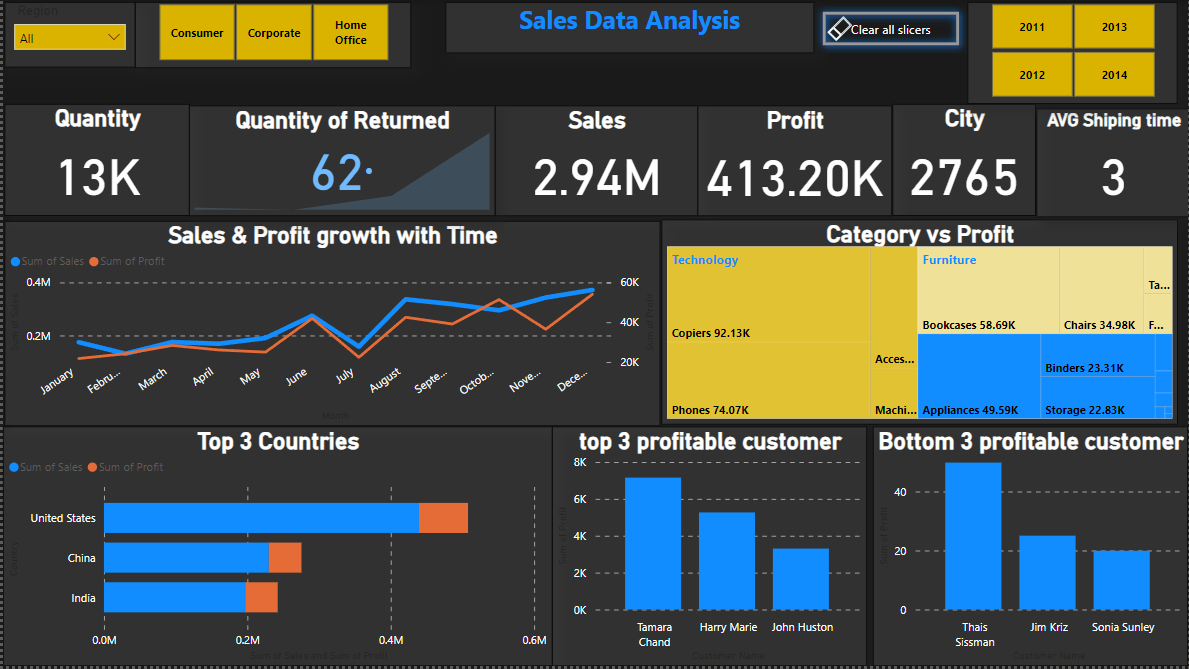

This screenshot's page, from the dashboard's own definition file:
{"tool":"powerbi","page":{"name":"Page 1","canvas":[1280,720],"ordinal":0},"visuals":[{"type":"card","title":"Quantity","fields":{"Values":["Orders.Quantity"]},"box":[1.1,113.4,200.3,120.9],"z":0},{"type":"card","title":"Sales","fields":{"Values":["Orders.Sales"]},"box":[531,115.3,219.2,119.1],"z":1000},{"type":"card","title":"Profit","fields":{"Values":["Orders.Profit"]},"box":[750.2,115.6,209.8,119.6],"z":2000},{"type":"card","title":"City","fields":{"Values":["Orders.City"]},"box":[960,113.4,155,120.9],"z":3000},{"type":"lineChart","title":"Sales & Profit growth with Time","fields":{"Y":["Orders.Sales"],"Category":["Orders.Order Date.Variation.Date Hierarchy.Month"],"Y2":["Orders.Profit"]},"box":[2,239.2,707.8,221.6],"z":4000},{"type":"treemap","title":"Category vs Profit","fields":{"Group":["Orders.Category"],"Values":["Orders.Profit"],"Details":["Orders.Sub-Category"]},"box":[710.6,238.1,557.5,221.1],"z":5000},{"type":"slicer","title":"Category vs Sales","fields":{"Values":["Orders.Region"]},"box":[2,3.9,141.2,70.6],"z":6000},{"type":"card","title":"AVG Shiping time","fields":{"Values":["Orders.Shipping Time"]},"box":[1114.9,117.6,166.7,117.6],"z":7000},{"type":"barChart","title":"Top 3 Countries","fields":{"Y":["Orders.Sales","Orders.Profit"],"Category":["Orders.Country"]},"box":[0,461.1,593.4,258.9],"z":8000},{"type":"kpi","title":"Quantity of Returned","fields":{"Indicator":["Returns.Returned"],"Goal":["Orders.Order Date.Variation.Date Hierarchy.Year","Orders.Order Date.Variation.Date Hierarchy.Quarter"],"TrendLine":["Orders.Order Date.Variation.Date Hierarchy.Year"]},"box":[200.3,115.3,330.7,119.1],"z":10000},{"type":"slicer","title":"Category vs Sales","fields":{"Values":["Orders.Order Date.Variation.Date Hierarchy.Year"]},"box":[1041.2,3.2,226.7,110.1],"z":11000},{"type":"clusteredColumnChart","title":"top 3 profitable customer","fields":{"Category":["Orders.Customer Name"],"Y":["Orders.Profit"]},"box":[593.4,461.1,340.2,258.9],"z":12000},{"type":"clusteredColumnChart","title":"Bottom 3 profitable customer","fields":{"Category":["Orders.Customer Name"],"Y":["Orders.Profit"]},"box":[939.2,461.1,340.2,258.9],"z":13000},{"type":"textbox","box":[477.7,3.2,398.3,55.1],"z":14000},{"type":"slicer","fields":{"Values":["Orders.Segment"]},"box":[142.5,3.2,297.9,71.2],"z":15000},{"type":"actionButton","box":[876,4.9,165,54],"z":15001}]}

Visuals, with their boxes in screenshot pixels (x1, y1, x2, y2), scaled from the page's 1280x720 canvas onto the 1189x669 screenshot:
"Quantity" card: 1:105:187:218
"Sales" card: 493:107:697:218
"Profit" card: 697:107:892:219
"City" card: 892:105:1036:218
"Sales & Profit growth with Time" lineChart: 2:222:659:428
"Category vs Profit" treemap: 660:221:1178:427
"Category vs Sales" slicer: 2:4:133:69
"AVG Shiping time" card: 1036:109:1188:219
"Top 3 Countries" barChart: 0:428:551:668
"Quantity of Returned" kpi: 186:107:493:218
"Category vs Sales" slicer: 967:3:1178:105
"top 3 profitable customer" clusteredColumnChart: 551:428:867:668
"Bottom 3 profitable customer" clusteredColumnChart: 872:428:1188:668
textbox: 444:3:814:54
slicer - Orders.Segment: 132:3:409:69
actionButton: 814:5:967:55
